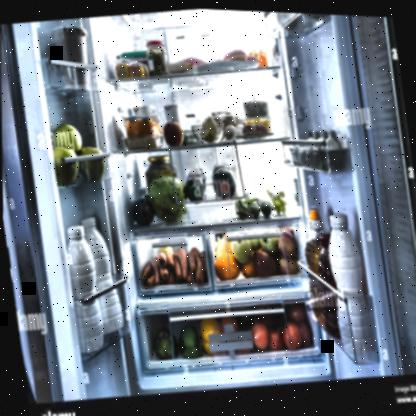apple: (52, 142, 81, 186), (77, 143, 108, 180), (53, 119, 82, 154), (274, 226, 298, 256), (161, 118, 185, 146), (250, 246, 274, 274), (229, 235, 253, 262), (276, 250, 298, 273), (257, 233, 277, 252)
carrot: (175, 247, 189, 278), (138, 260, 154, 279), (193, 256, 204, 282), (151, 254, 160, 281), (172, 254, 182, 277), (186, 250, 196, 270), (164, 250, 174, 268), (156, 249, 166, 266), (158, 265, 168, 278), (165, 268, 174, 282), (145, 273, 154, 285)
cheese: (121, 131, 162, 151), (124, 115, 155, 135)
corn: (128, 59, 148, 77), (115, 61, 129, 76)
cucumber: (255, 193, 272, 214), (246, 199, 260, 216)
eggs: (307, 130, 342, 151)
green_bell_pepper: (151, 325, 179, 359), (175, 322, 201, 358)
lemon: (197, 113, 218, 140)
lettuce: (147, 172, 190, 225)
onion: (222, 120, 237, 138)
orange: (213, 248, 241, 279)
pickles: (145, 38, 168, 75), (143, 159, 176, 179)
spring_onion: (233, 197, 250, 218)
tomato: (280, 316, 303, 348), (249, 319, 269, 347), (285, 299, 307, 324), (266, 321, 282, 347), (298, 319, 311, 345)
yellow_bell_pepper: (198, 315, 222, 354)
